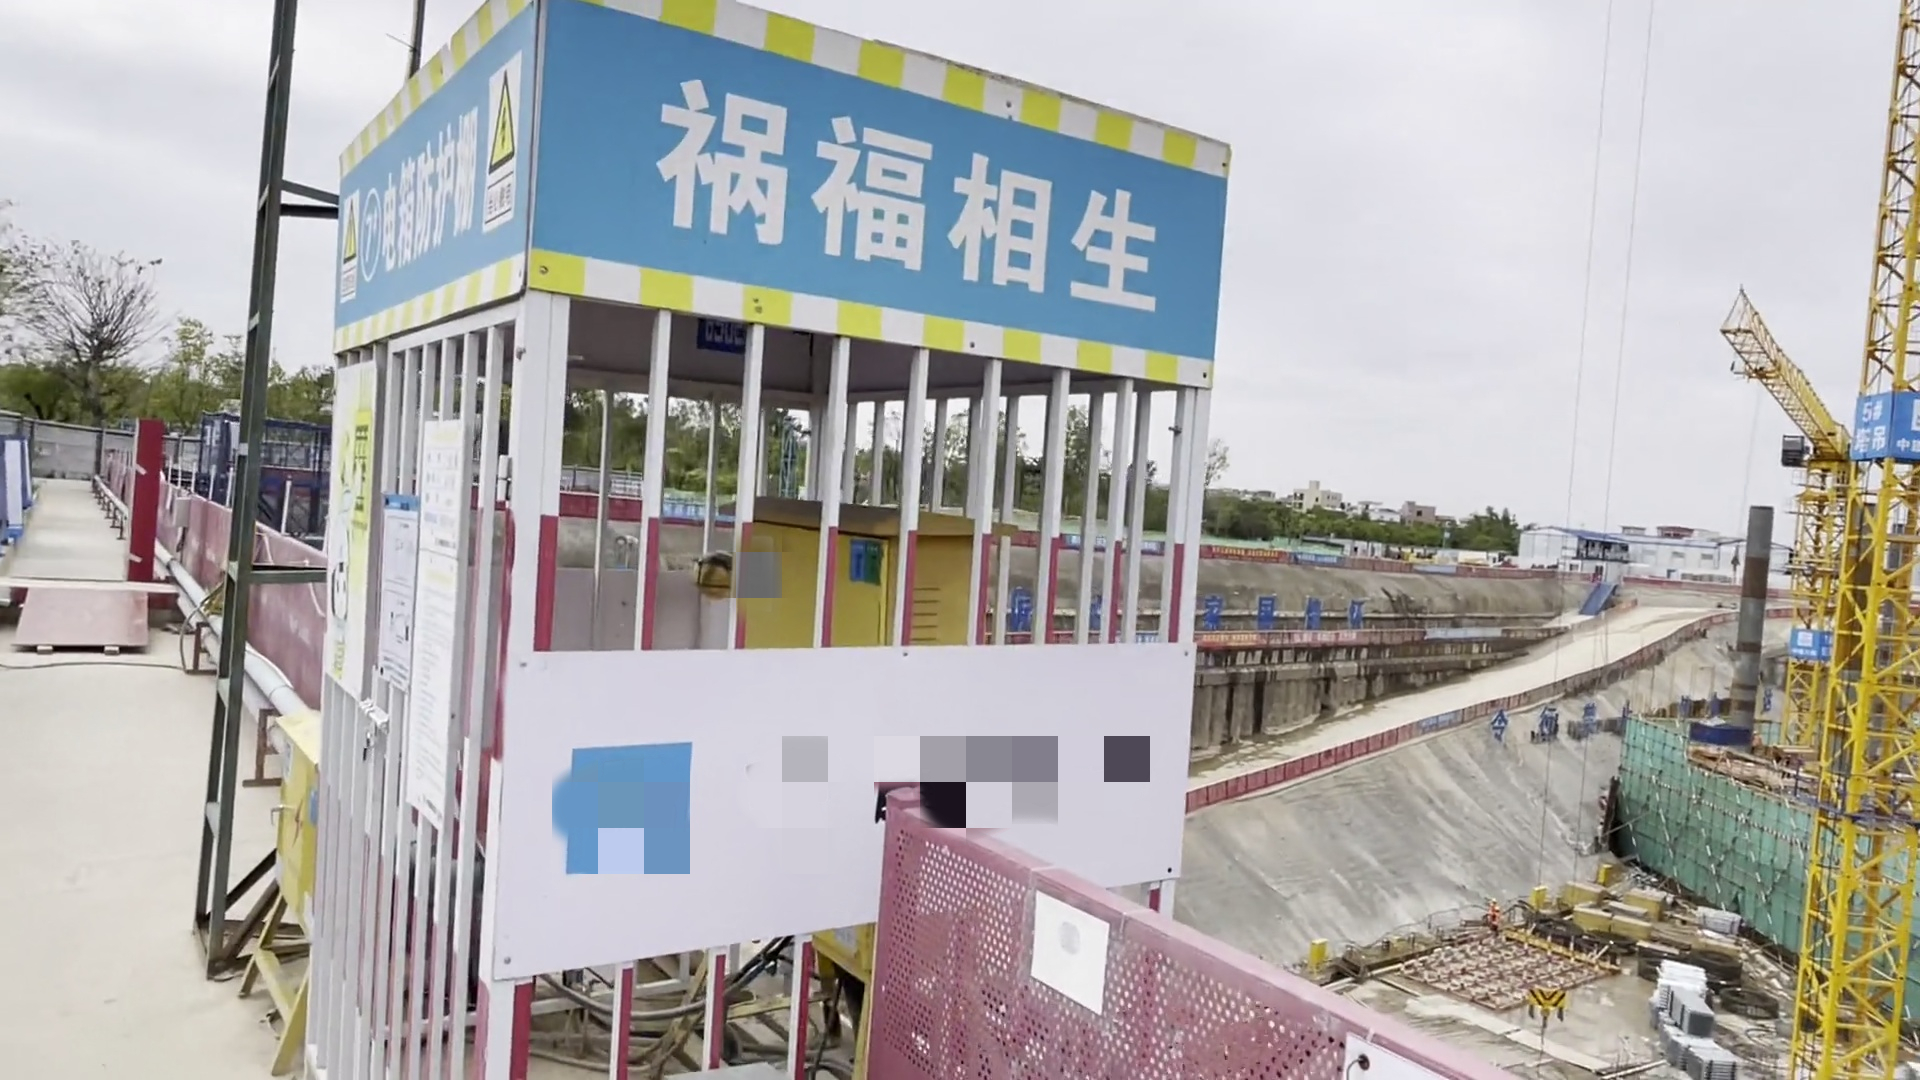board: (7, 585, 170, 667)
ebox: (752, 489, 982, 650), (262, 708, 334, 1071)
fence: (893, 823, 1462, 1080)
hook: (1524, 986, 1567, 1025)
slogan: (558, 5, 1261, 402), (328, 44, 556, 338)
